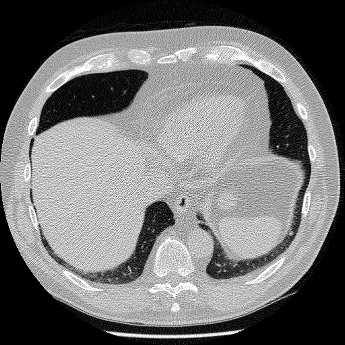nodule: (289, 231, 293, 235)
